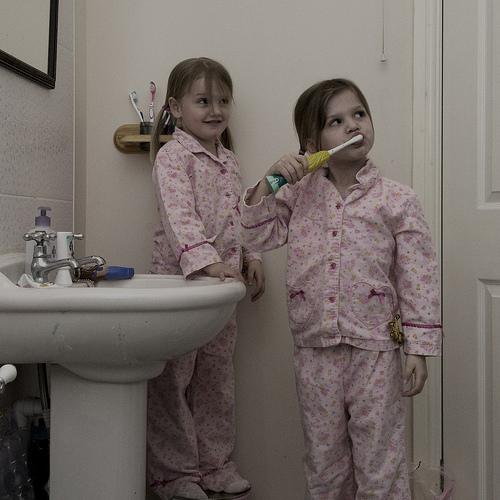person: (231, 79, 440, 500)
